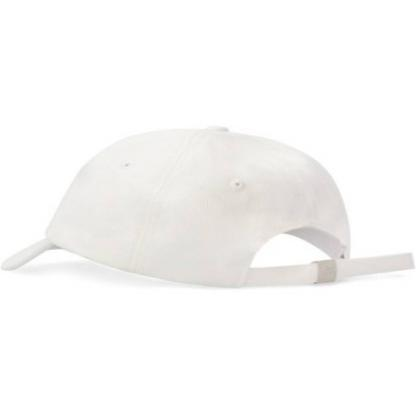cap: (5, 116, 374, 296)
